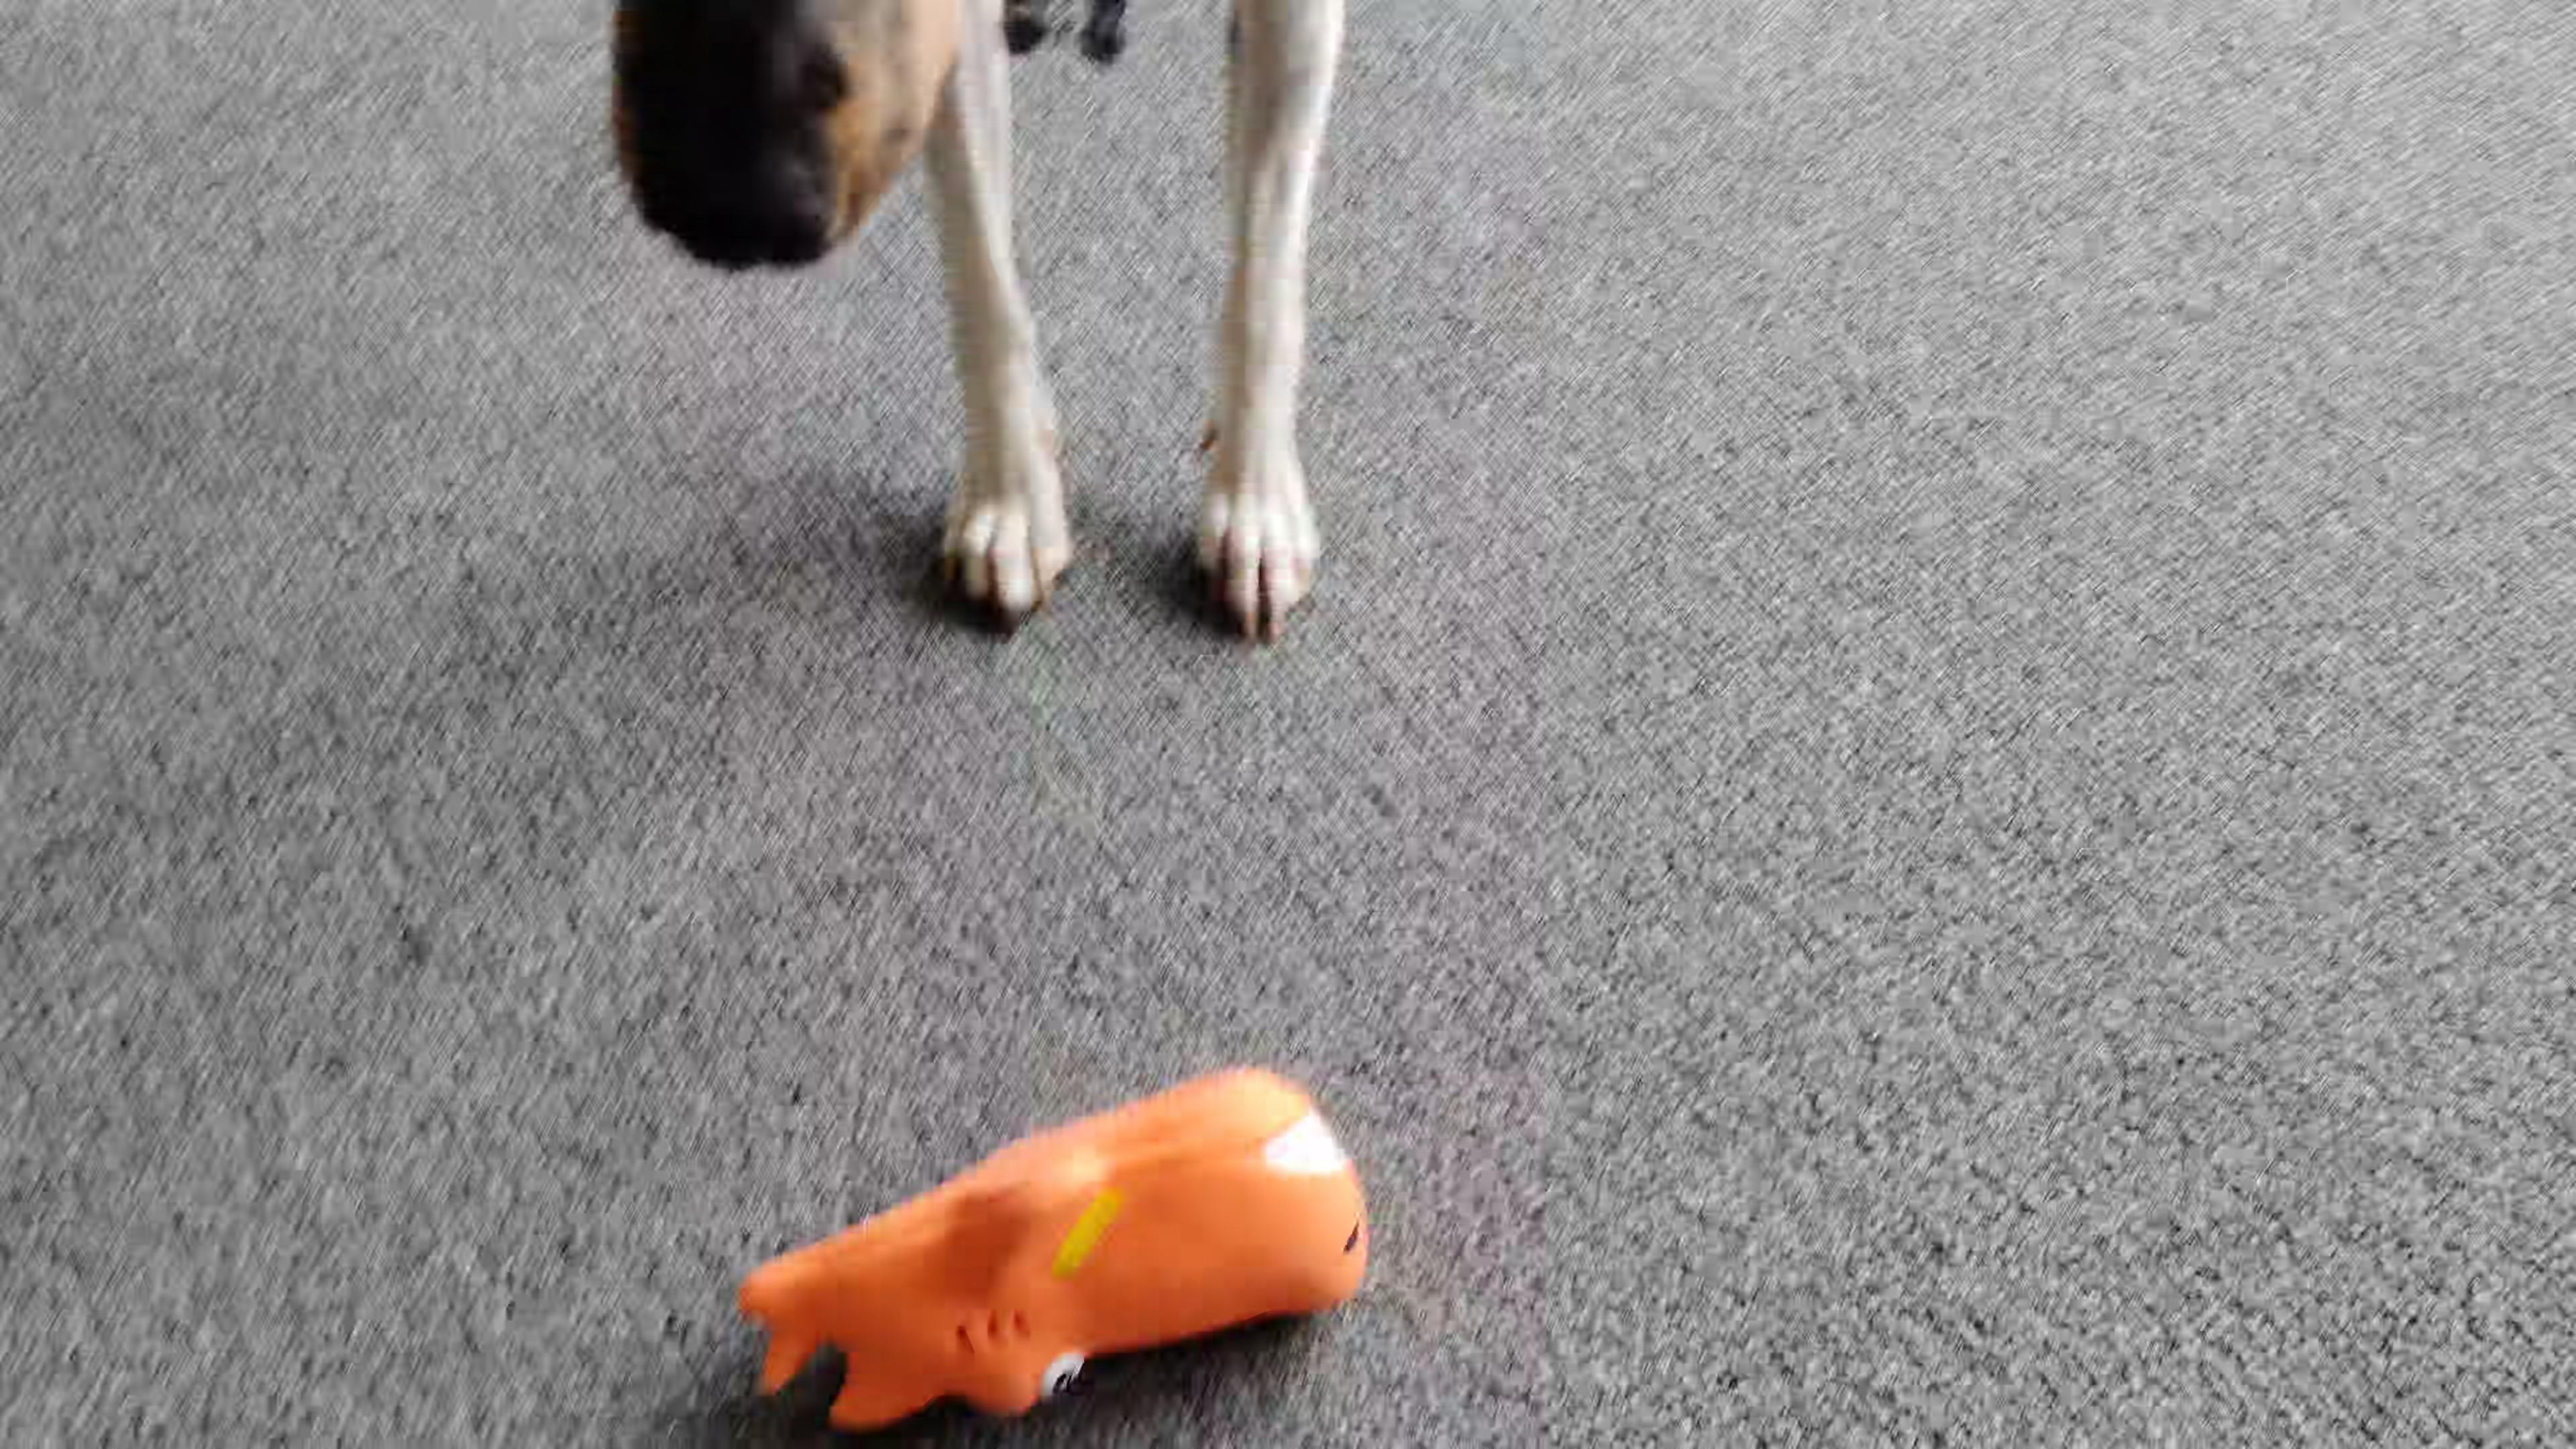Dog: (600, 0, 1407, 658)
